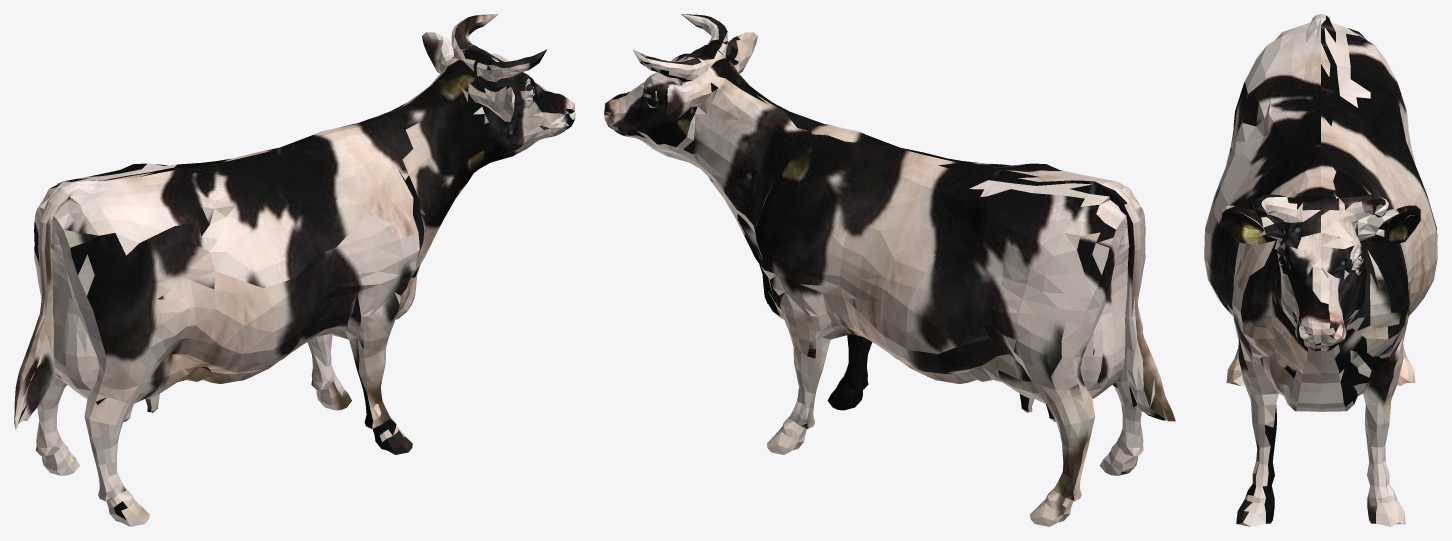
The model's file is cow.obj.
3 views of the same model, side by side, from view 1: azimuth 30°, elevation 25°; view 2: azimuth 150°, elevation 25°; view 3: azimuth 270°, elevation 25° (orthographic). The views are drawn at different scales.
Parts seen in each view (by area): view 1: cow; view 2: cow; view 3: cow.
Boxes of the visible parts, x1,y1,x2,y2 form: cow: (14, 14, 575, 526); cow: (604, 14, 1175, 526); cow: (1204, 14, 1437, 526).
Size of the model in its own units: 10.44 by 6.4 by 3.4.
1 material, 1 textured.
